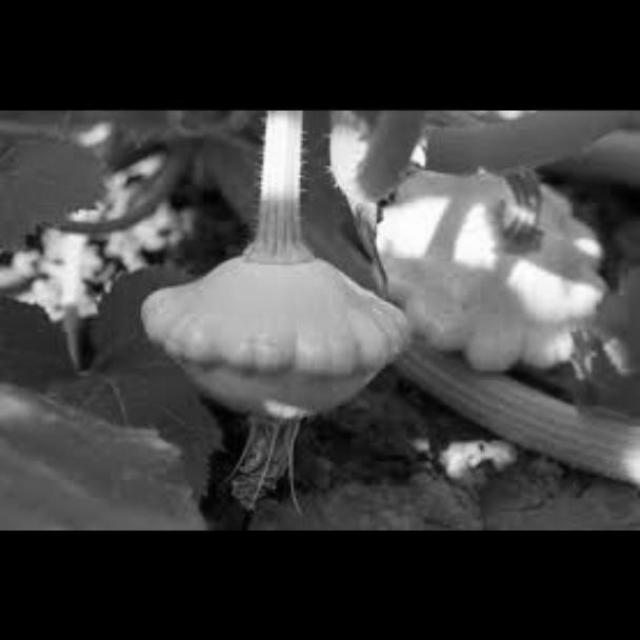bi dao: (131, 235, 423, 424), (373, 152, 612, 364)
